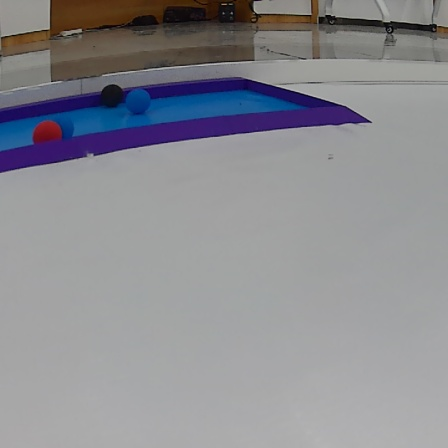black: (99, 84, 126, 107)
blue: (126, 88, 154, 116), (50, 117, 75, 140)
blue_aim: (0, 72, 371, 172)
red: (29, 121, 64, 142)
